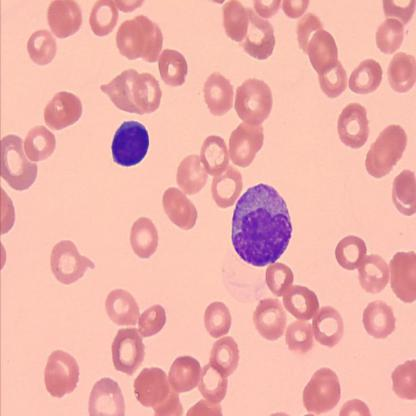Monocyte: (230, 180, 292, 266), (108, 118, 152, 170)
